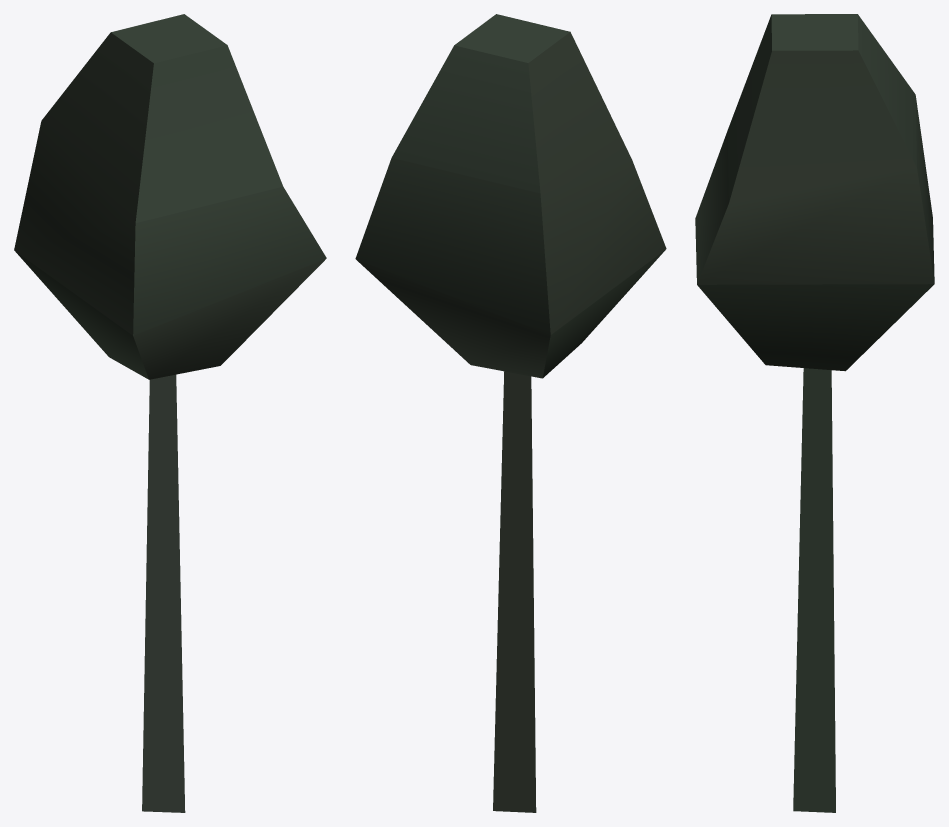
File: SF_Env_Tree_017.glb
3 renders of one model, left to right at view 1: azimuth 30°, elevation 25°; view 2: azimuth 150°, elevation 25°; view 3: azimuth 270°, elevation 25°, orthographic.
Parts seen in each view (by area): view 1: SF_Env_Tree_Tall_03; view 2: SF_Env_Tree_Tall_03; view 3: SF_Env_Tree_Tall_03.
Part boxes in pixels (box(x1,y1,x2,y2)): SF_Env_Tree_Tall_03: box(14, 14, 326, 812); SF_Env_Tree_Tall_03: box(355, 14, 666, 812); SF_Env_Tree_Tall_03: box(695, 14, 934, 812).
Bounding box in the file's own units: 0.0235 × 0.0877 × 0.0245.
Materials: 1 (1 with a texture image).
